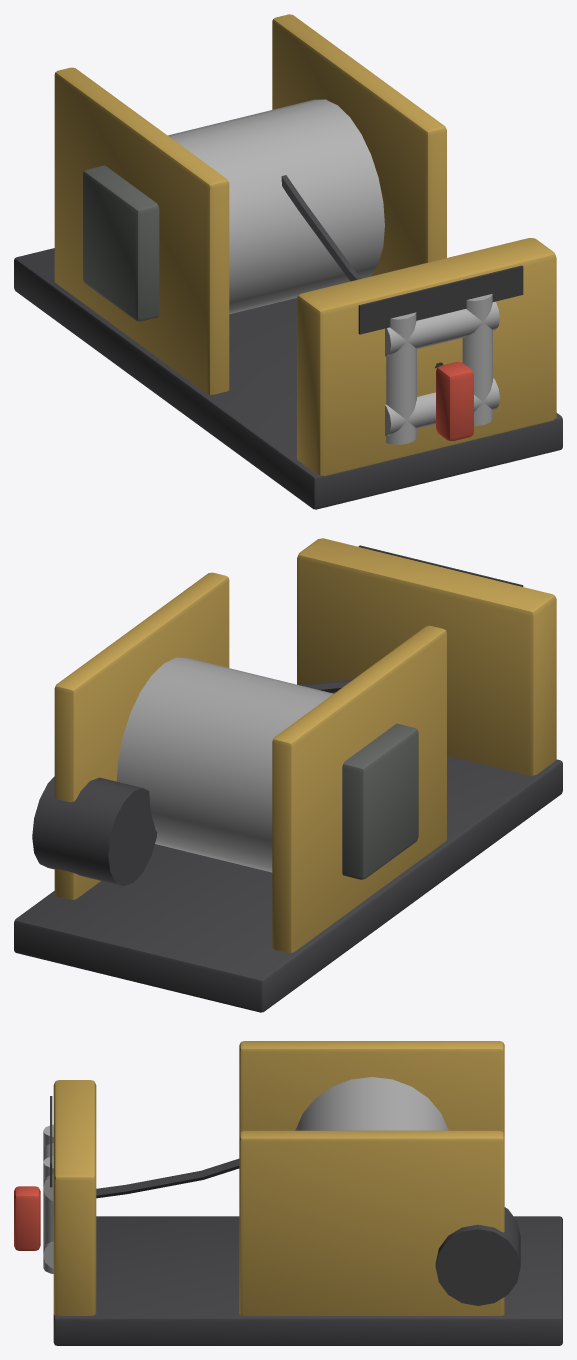
File: winch.glb
3 views of the same model, one above another, from view 1: azimuth 30°, elevation 25°; view 2: azimuth 150°, elevation 25°; view 3: azimuth 270°, elevation 25° (orthographic). The views are drawn at different scales.
Visible parts, largest first — view 1: Part; view 2: Part; view 3: Part.
Part boxes in pixels (left/top/right/bottom): Part: left=14, top=14, right=562, bottom=509; Part: left=14, top=538, right=562, bottom=1012; Part: left=14, top=1041, right=562, bottom=1345.
Bounding box in the file's own units: 0.5 × 0.443 × 1.03.
